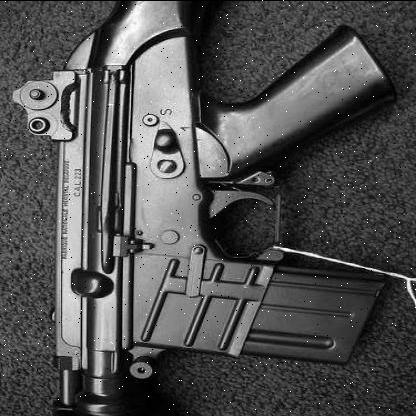rifle: (10, 1, 389, 416)
